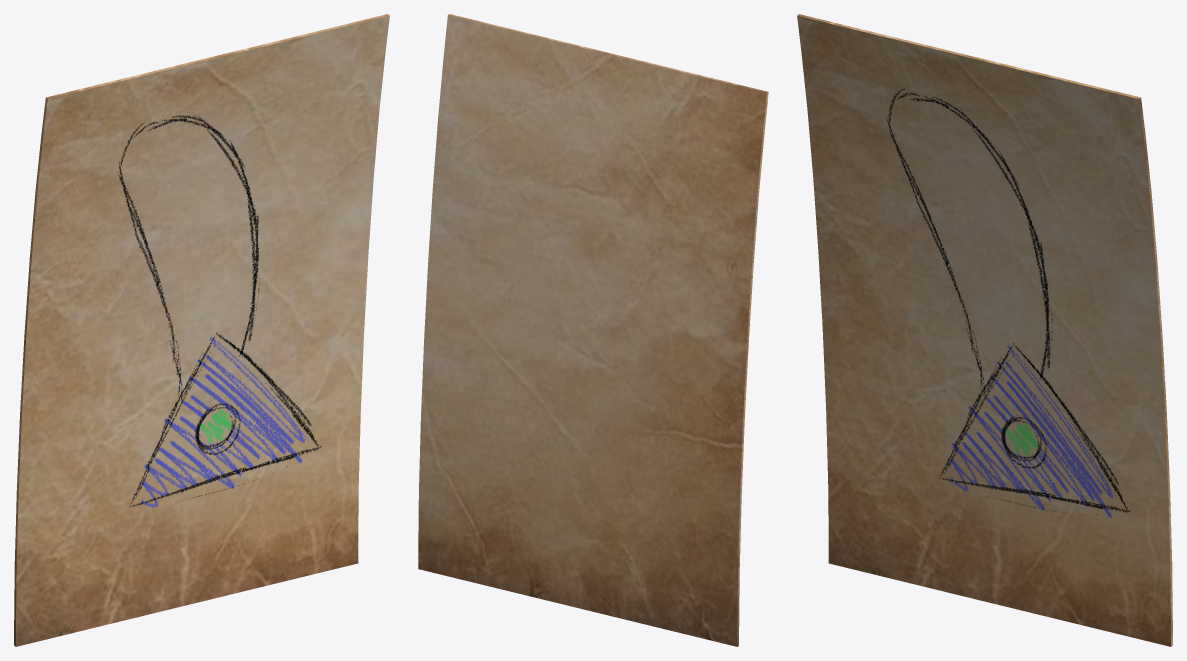
Rendered from TBJV.fbx.
3 views of the same model, side by side, from view 1: azimuth 30°, elevation 25°; view 2: azimuth 150°, elevation 25°; view 3: azimuth 330°, elevation 25° (orthographic). The views are drawn at different scales.
Visible parts, largest first — view 1: TBJV; view 2: TBJV; view 3: TBJV.
Part boxes in pixels (left/top/right/bottom): TBJV: left=14, top=14, right=389, bottom=646; TBJV: left=418, top=14, right=768, bottom=646; TBJV: left=797, top=14, right=1172, bottom=646.
Bounding box in the file's own units: 200 × 319 × 34.
